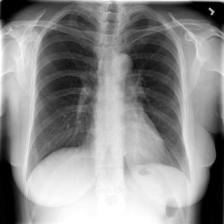normal: (23, 7, 193, 186)
